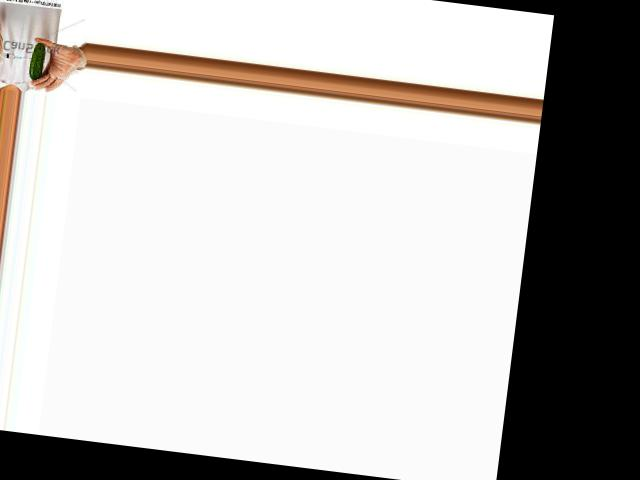cucumber: (29, 40, 47, 80)
